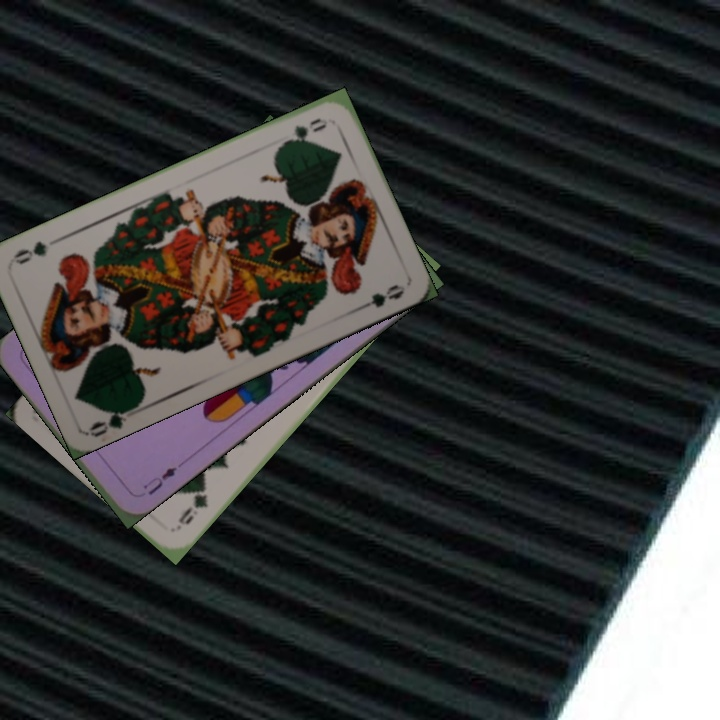EU: (138, 462, 180, 498)
G9: (172, 479, 211, 532)
GO: (86, 399, 141, 440), (277, 114, 331, 149)
